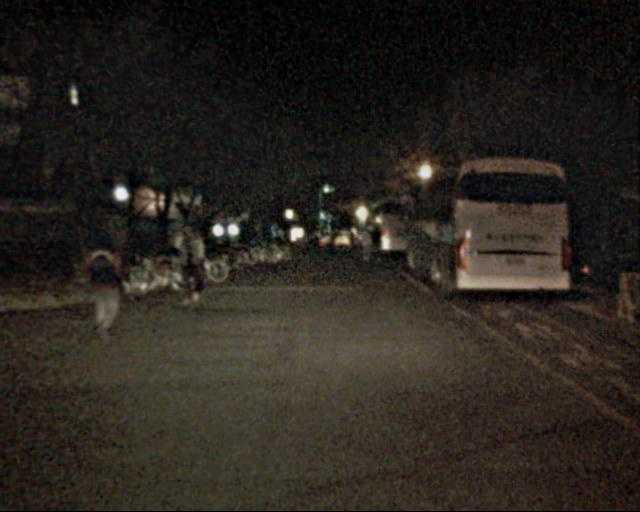person: (84, 220, 132, 339), (171, 218, 209, 313), (354, 225, 382, 268)
